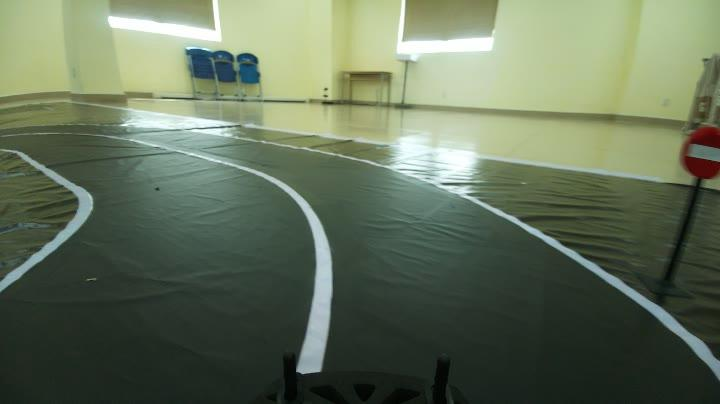no_entry: (674, 124, 720, 178)
